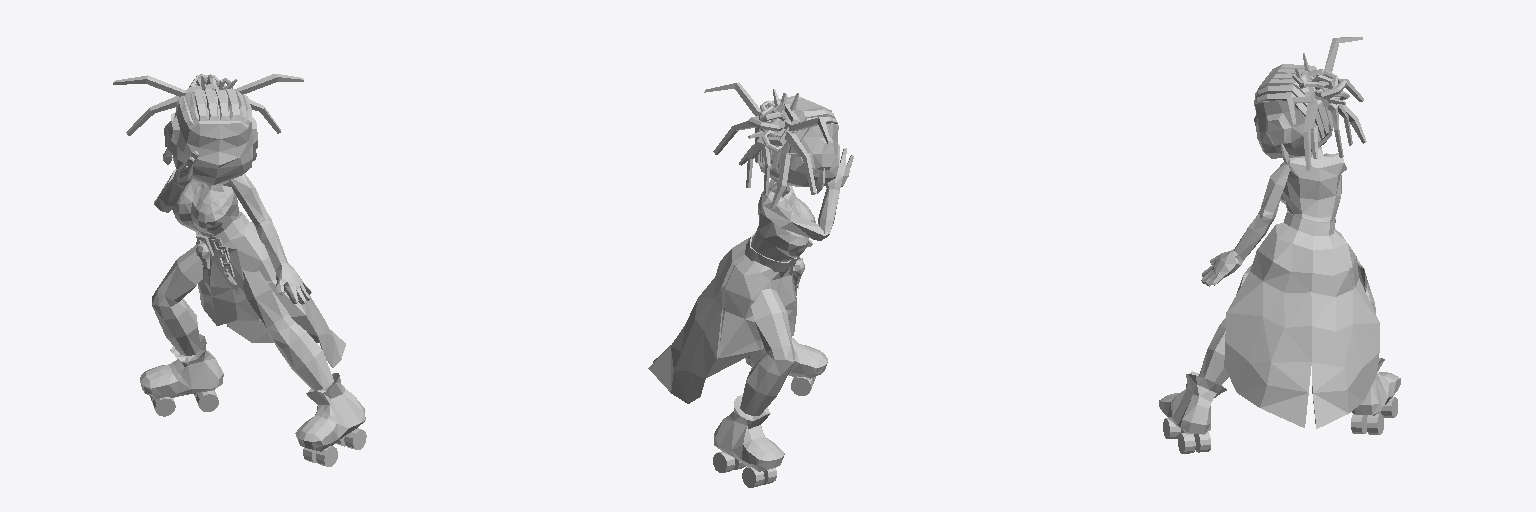
Rendered from bruja_000074.obj.
The picture shows the model from 3 angles: view 1: azimuth 30°, elevation 25°; view 2: azimuth 150°, elevation 25°; view 3: azimuth 270°, elevation 25°; orthographic projection.
Parts seen in each view (by area): view 1: Bruja_Plane.001; view 2: Bruja_Plane.001; view 3: Bruja_Plane.001.
Part boxes in pixels (x1,y1,x2,y2): Bruja_Plane.001: (113,74,366,466); Bruja_Plane.001: (648,82,853,487); Bruja_Plane.001: (1159,37,1400,453).
Bounding box in the file's own units: 9.12 × 15.42 × 9.26.